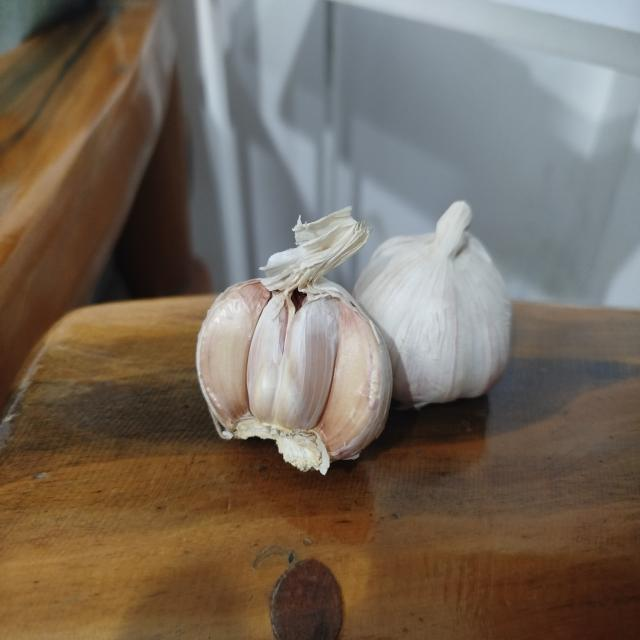garlic: (195, 205, 393, 476), (351, 200, 512, 410)
